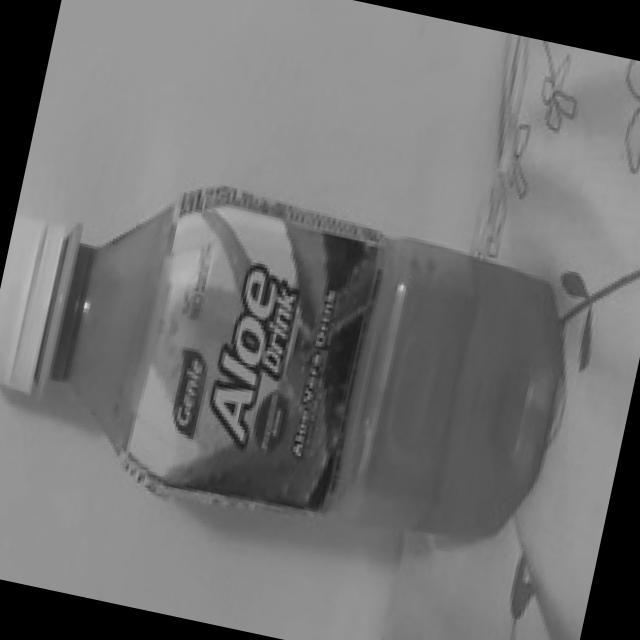good: (0, 136, 611, 585)
